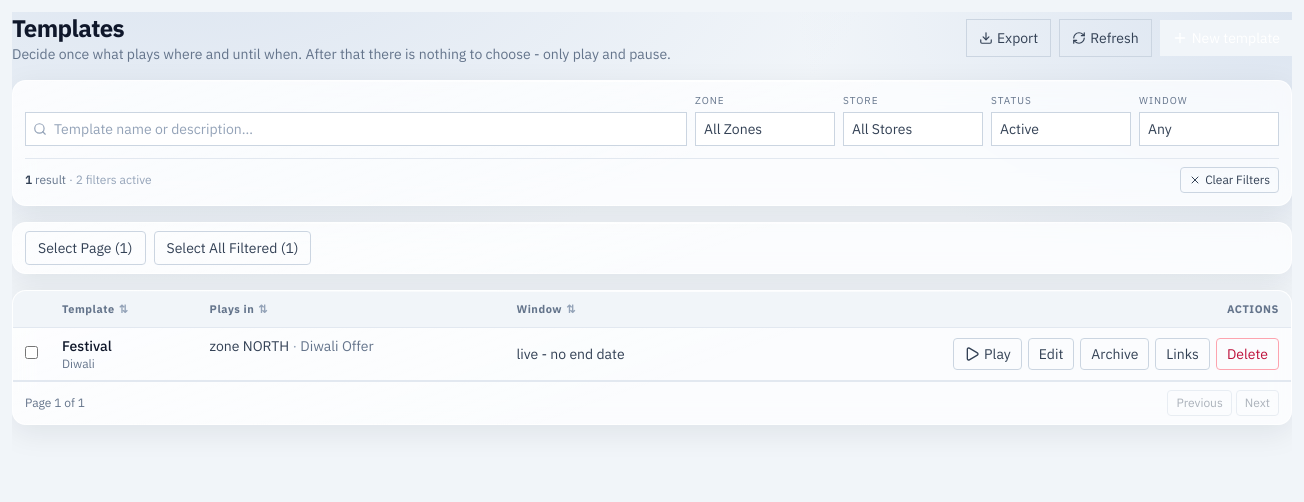
Test: archiving reports what it did to the shops running it
The width and height of the screenshot is (1304, 502).
Step 1. Click the button with test id "template-archive-3" → [1115, 354], box x1=1080 y1=338 x2=1149 y2=370
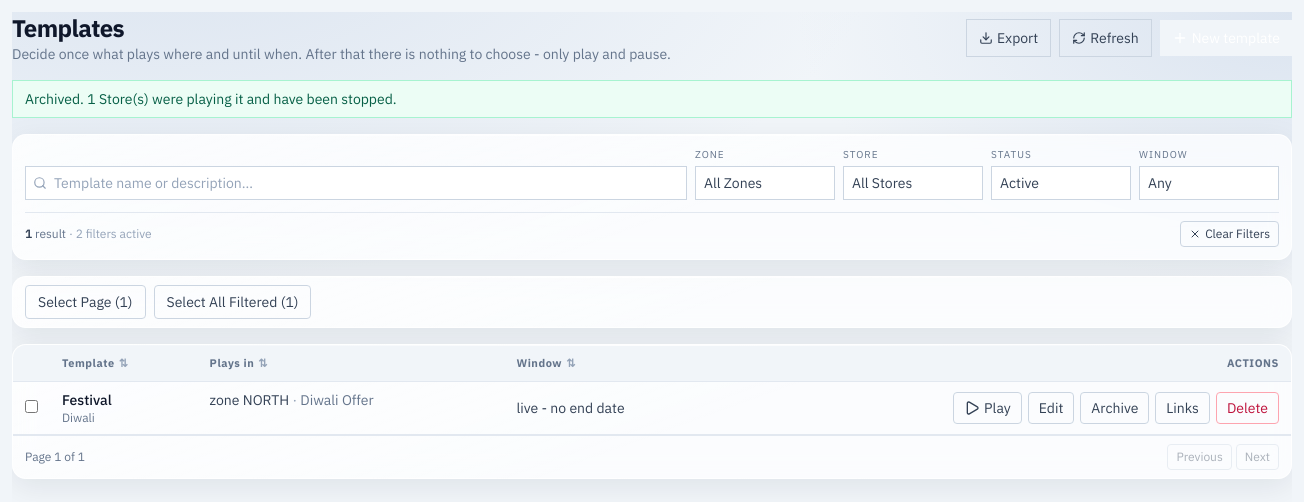
expect the text with test id "templates-note" shows "have been stopped": met, box x1=25 y1=90 x2=397 y2=108
